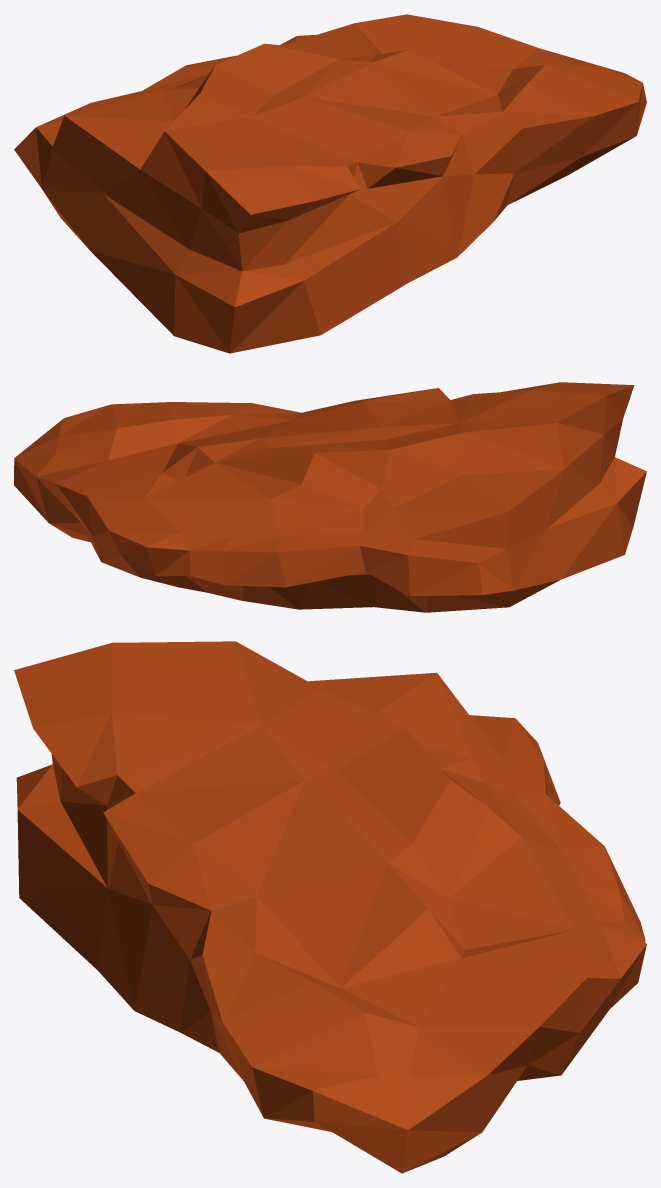
Rendered from stone_mid_8.fbx.
3 views of the same model, one above another, from view 1: azimuth 30°, elevation 25°; view 2: azimuth 150°, elevation 25°; view 3: azimuth 270°, elevation 25° (orthographic). The views are drawn at different scales.
Visible parts, largest first — view 1: Stone_desert_mid_008; view 2: Stone_desert_mid_008; view 3: Stone_desert_mid_008.
Part boxes in pixels (x1,y1,x2,y2): Stone_desert_mid_008: (14,14,646,353); Stone_desert_mid_008: (14,382,646,612); Stone_desert_mid_008: (14,641,646,1173).
Bounding box in the file's own units: 396 × 117 × 293.
1 material, 1 textured.
